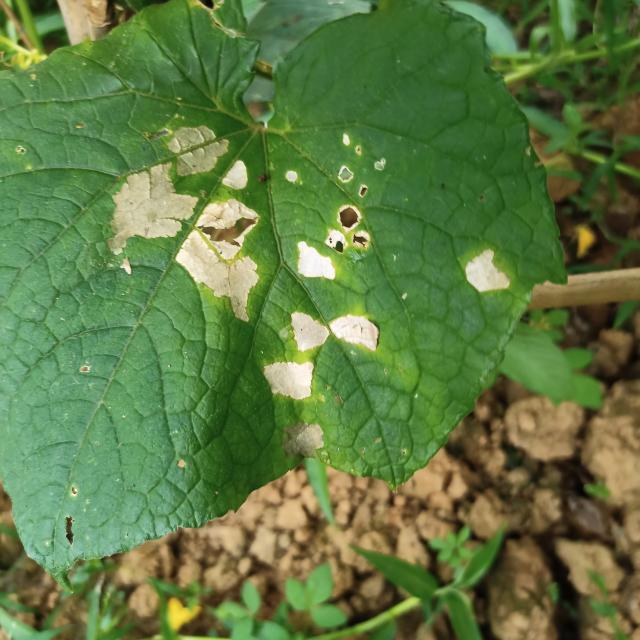disease_cucumber: (106, 123, 260, 333), (282, 132, 374, 284), (261, 310, 382, 405), (459, 244, 515, 297)
